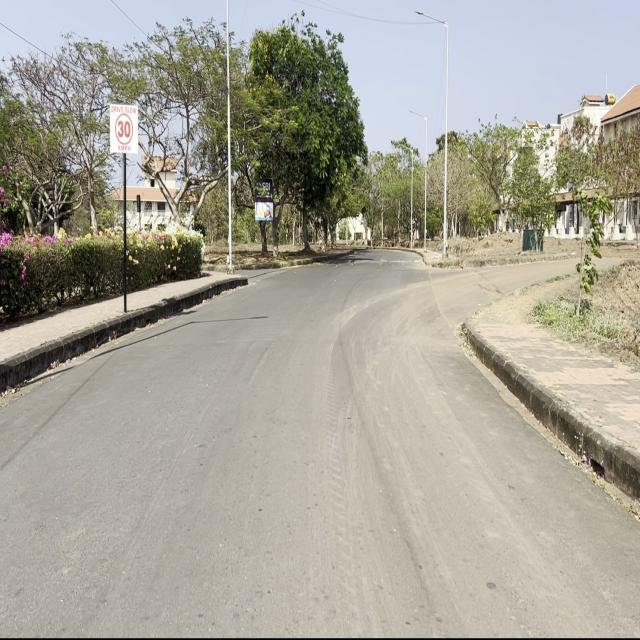Road: (3, 255, 637, 632)
